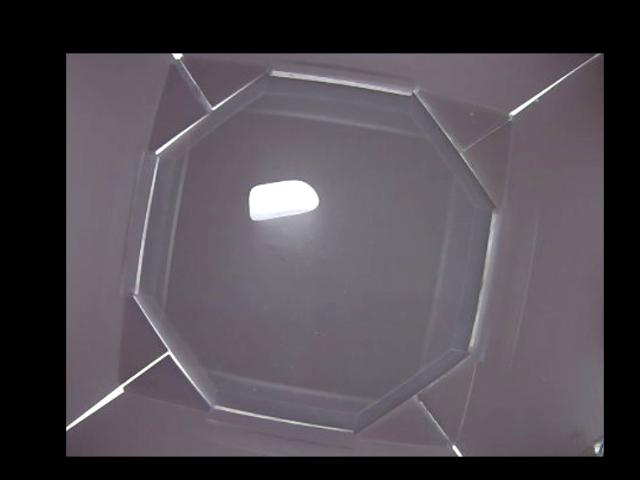Pebble: (245, 180, 319, 218)
